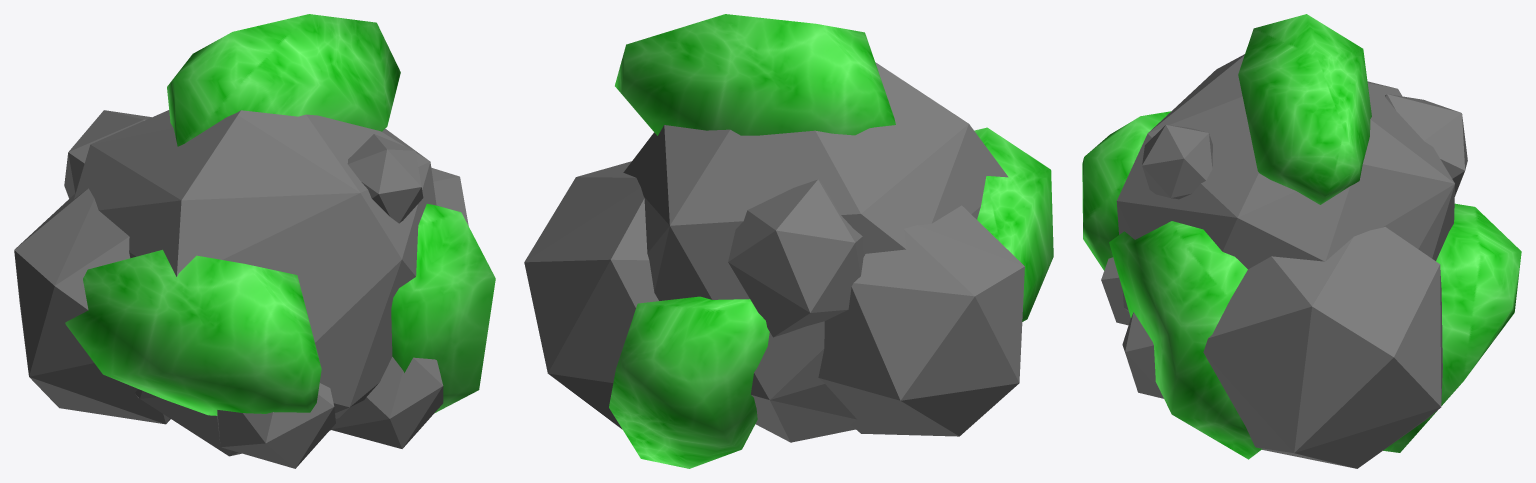
Rendered from earthstoneSemioreLP.fbx.
3 renders of one model, left to right at view 1: azimuth 30°, elevation 25°; view 2: azimuth 150°, elevation 25°; view 3: azimuth 270°, elevation 25°, orthographic. The views are drawn at different scales.
Parts seen in each view (by area): view 1: StoneOre.010, EarthstoneParticle.029; view 2: StoneOre.010, EarthstoneParticle.029; view 3: StoneOre.010, EarthstoneParticle.029.
Part boxes in pixels (box(x1,y1,x2,y2)): StoneOre.010: box(14, 110, 468, 468); EarthstoneParticle.029: box(65, 14, 495, 415); StoneOre.010: box(524, 62, 1024, 442); EarthstoneParticle.029: box(609, 14, 1053, 468); StoneOre.010: box(1101, 54, 1467, 468); EarthstoneParticle.029: box(1082, 14, 1521, 459).
Size of the model in its own units: 274 by 252 by 253.
